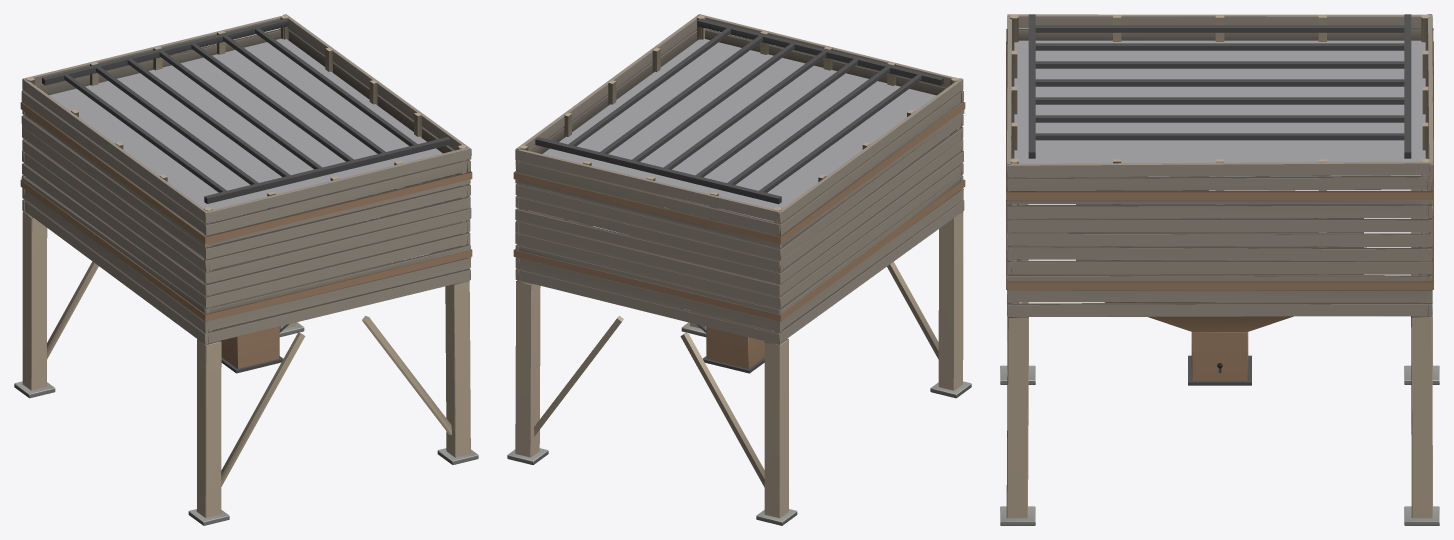
Rendered from mill_ore_bin.glb.
3 renders of one model, left to right at view 1: azimuth 30°, elevation 25°; view 2: azimuth 150°, elevation 25°; view 3: azimuth 270°, elevation 25°, orthographic. The views are drawn at different scales.
Parts seen in each view (by area): view 1: static; view 2: static; view 3: static.
Boxes of the visible parts, <box> form: static: <box>14,14,478,525</box>; static: <box>507,14,971,525</box>; static: <box>1000,14,1439,525</box>.
Size of the model in its own units: 5.2 by 5.68 by 6.2.
